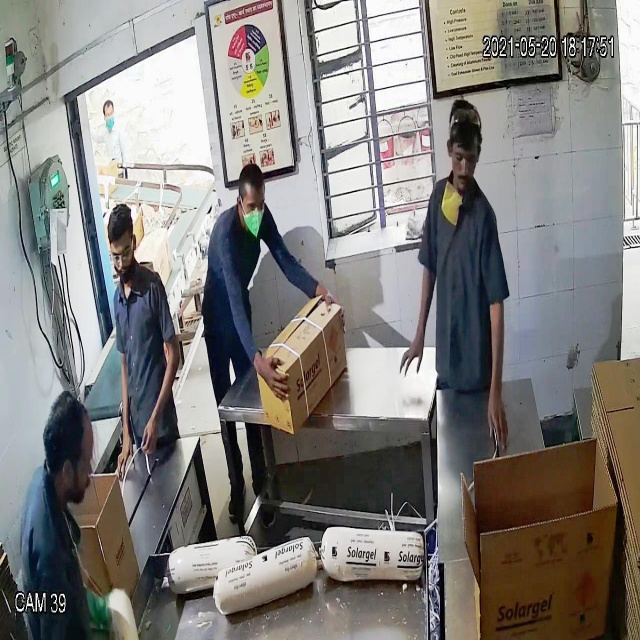Gafas: (105, 239, 139, 268)
Sin_gafas: (445, 139, 484, 173), (235, 187, 270, 217)
